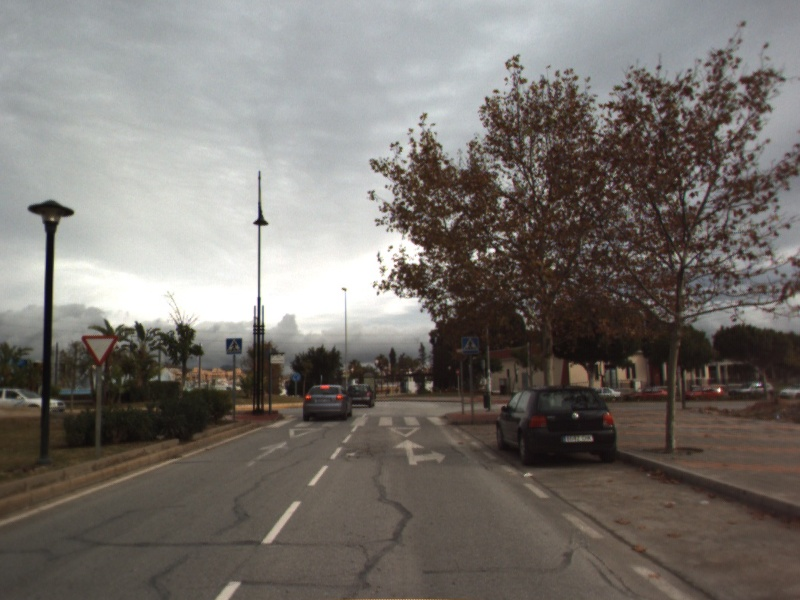STRAIGHT: (243, 438, 292, 469)
STRAIGHT_RIGHT: (390, 438, 448, 467)
